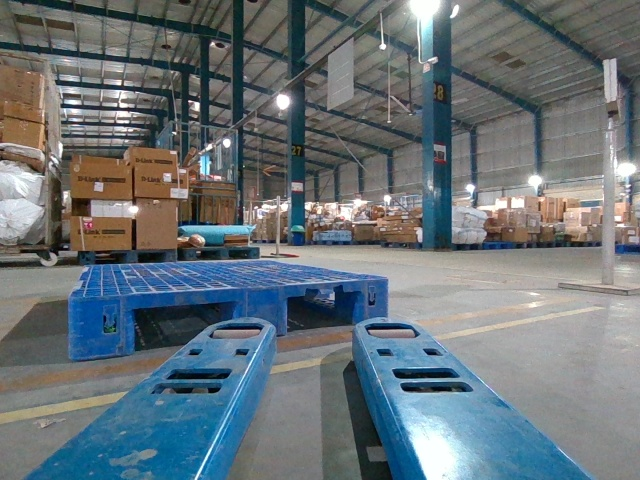block: (69, 295, 135, 358), (233, 284, 289, 337), (356, 276, 393, 324)
front: (72, 277, 389, 357)
hole pallet: (127, 294, 240, 353), (285, 289, 360, 334)
